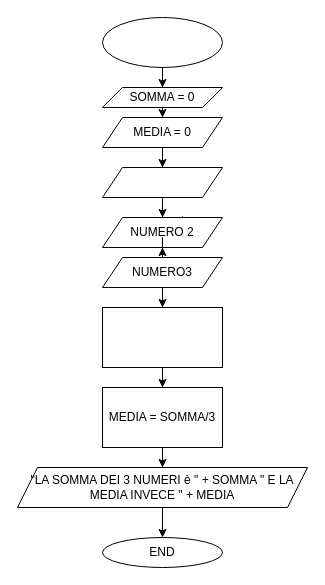
Image size: 325x585. Some labels were removed from this diagram. Here are the shapes that lost their labels. From the top down, the centre of each, then its label:
At [162,42]: "START".
At [162,182]: "NUMERO 1".
At [162,337]: "SOMMA = NUMERO1 + NUMERO 2 + NUMERO 3".
